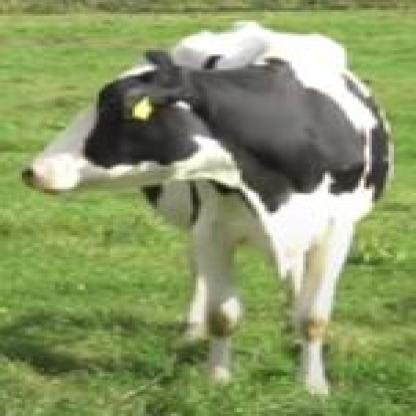cow: (19, 21, 394, 397)
